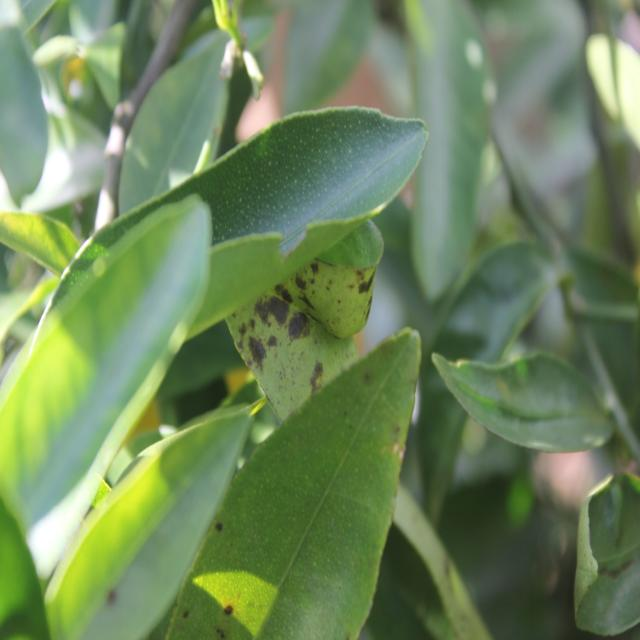melanose: (163, 324, 428, 640), (200, 172, 402, 420)
